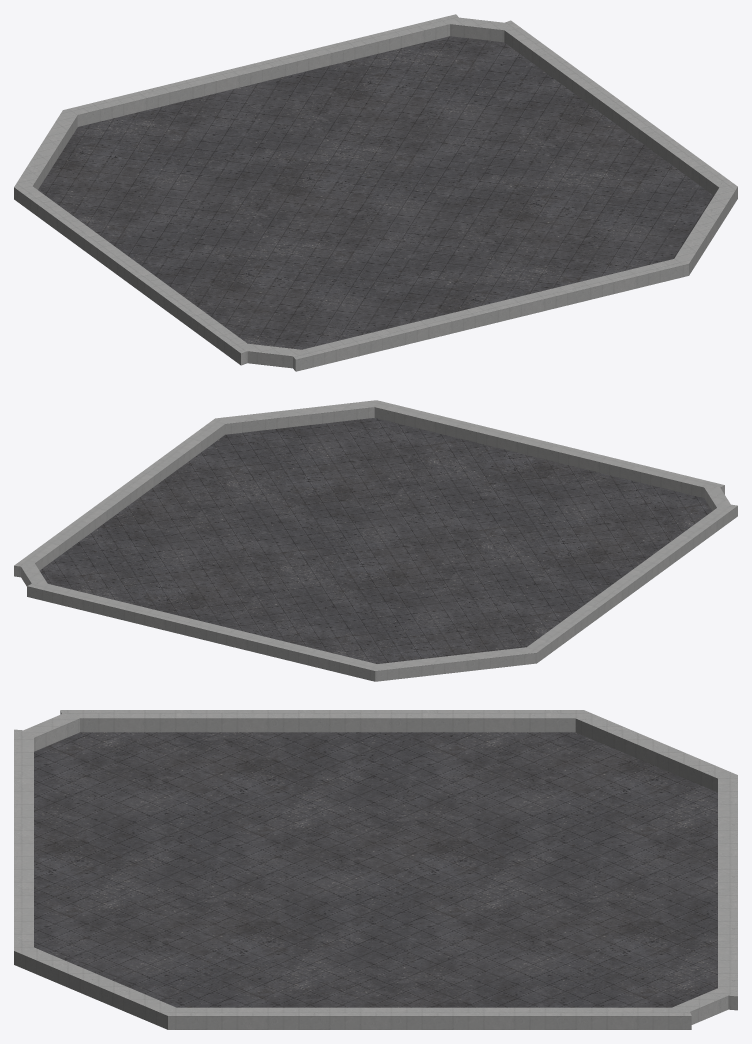
Rendered from jctBld24_C_mdlRoof.fbx.
3 views of the same model, one above another, from view 1: azimuth 30°, elevation 25°; view 2: azimuth 150°, elevation 25°; view 3: azimuth 270°, elevation 25° (orthographic). The views are drawn at different scales.
Visible parts, largest first — view 1: jctBld24_C_mdlRoof; view 2: jctBld24_C_mdlRoof; view 3: jctBld24_C_mdlRoof.
Part boxes in pixels (bbox=[...]): jctBld24_C_mdlRoof: bbox=[14, 14, 737, 371]; jctBld24_C_mdlRoof: bbox=[14, 400, 737, 681]; jctBld24_C_mdlRoof: bbox=[14, 710, 737, 1029].
Bounding box in the file's own units: 2350 × 50 × 2350.
